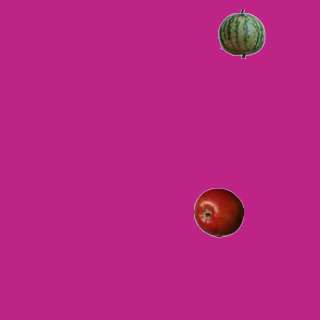Apple Braeburn: (193, 187, 243, 237)
Watermelon: (216, 8, 266, 58)
